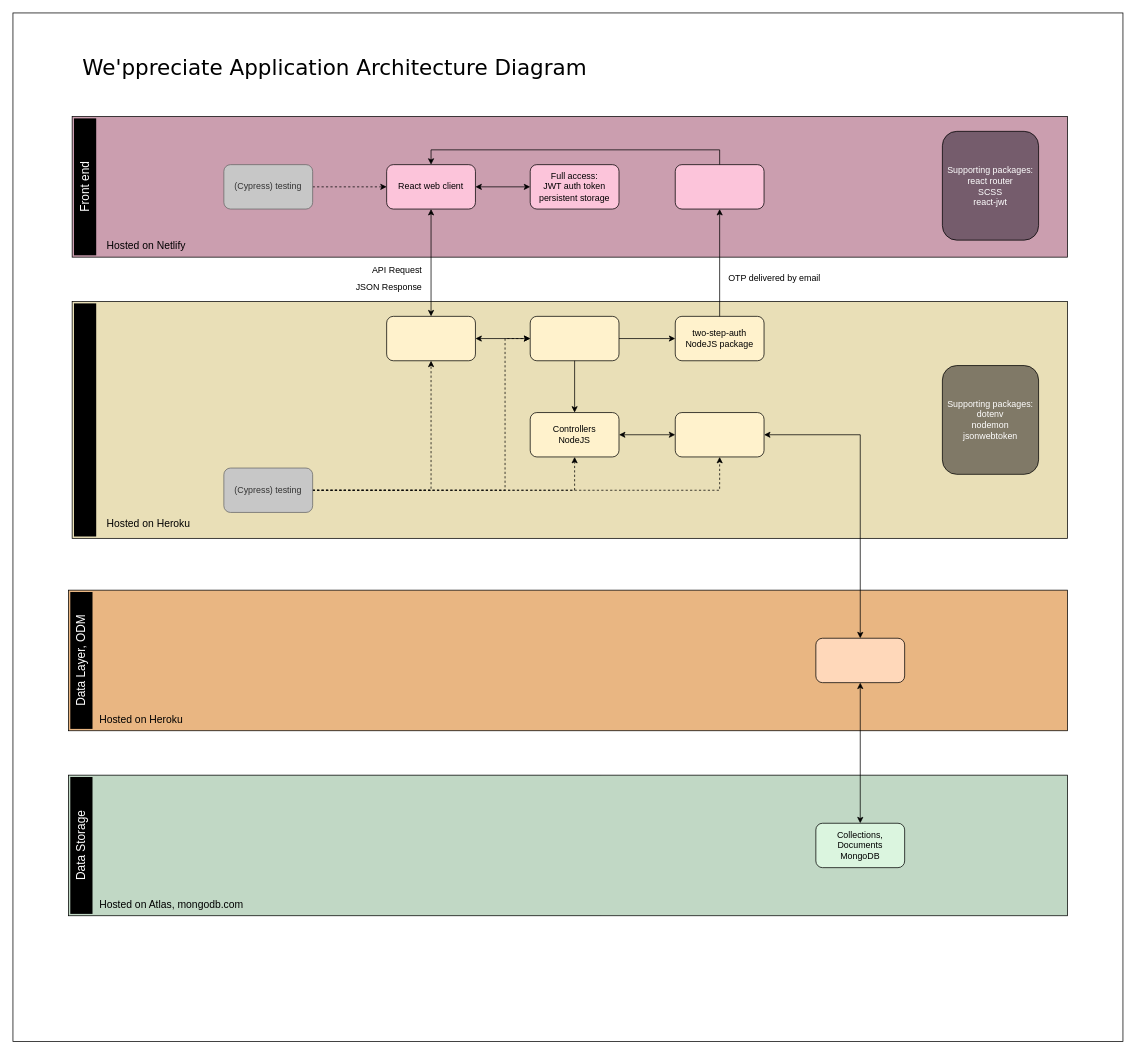
The diagram is 1136 pixels wide and 1055 high, and some of its shapes have lost their labels. Each missing label, with the box of its shape:
Back end: (74, 303, 96, 536)
Basic access: Email client (OTP receipt): (675, 164, 764, 209)
Business Logic, NodeJS: (529, 316, 619, 361)
ExpressJS API Endpoints: (386, 316, 475, 361)
Models, NodeJS: (675, 412, 764, 457)
Schema and db handling, Mongoose: (815, 638, 905, 683)
